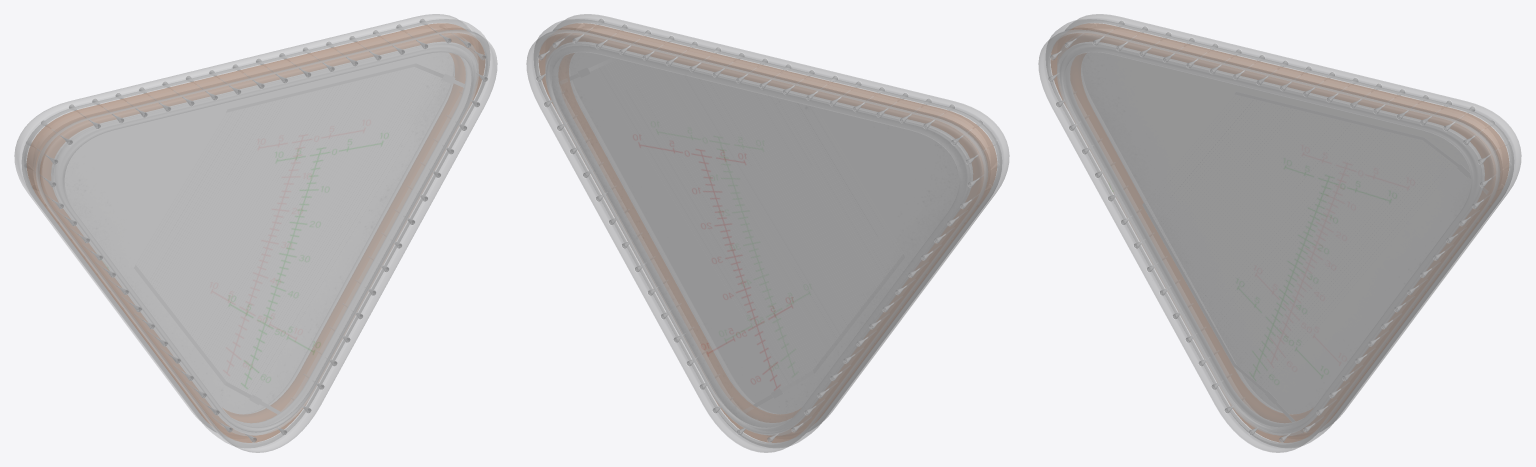
The model's file is Apollo_Lunar_Module_Window.gltf.
The picture shows the model from 3 angles, left to right: view 1: azimuth 30°, elevation 25°; view 2: azimuth 150°, elevation 25°; view 3: azimuth 330°, elevation 25°; orthographic projection.
Visible parts, largest first — view 1: Frame_Baked; view 2: Frame_Baked; view 3: Frame_Baked.
Part boxes in pixels (x1=…): Frame_Baked: x1=14, y1=14, x2=497, y2=452; Frame_Baked: x1=526, y1=14, x2=1009, y2=452; Frame_Baked: x1=1038, y1=14, x2=1521, y2=452.
Bounding box in the file's own units: 5.94 × 4.64 × 0.6162.
Materials: 6 (6 with a texture image).
